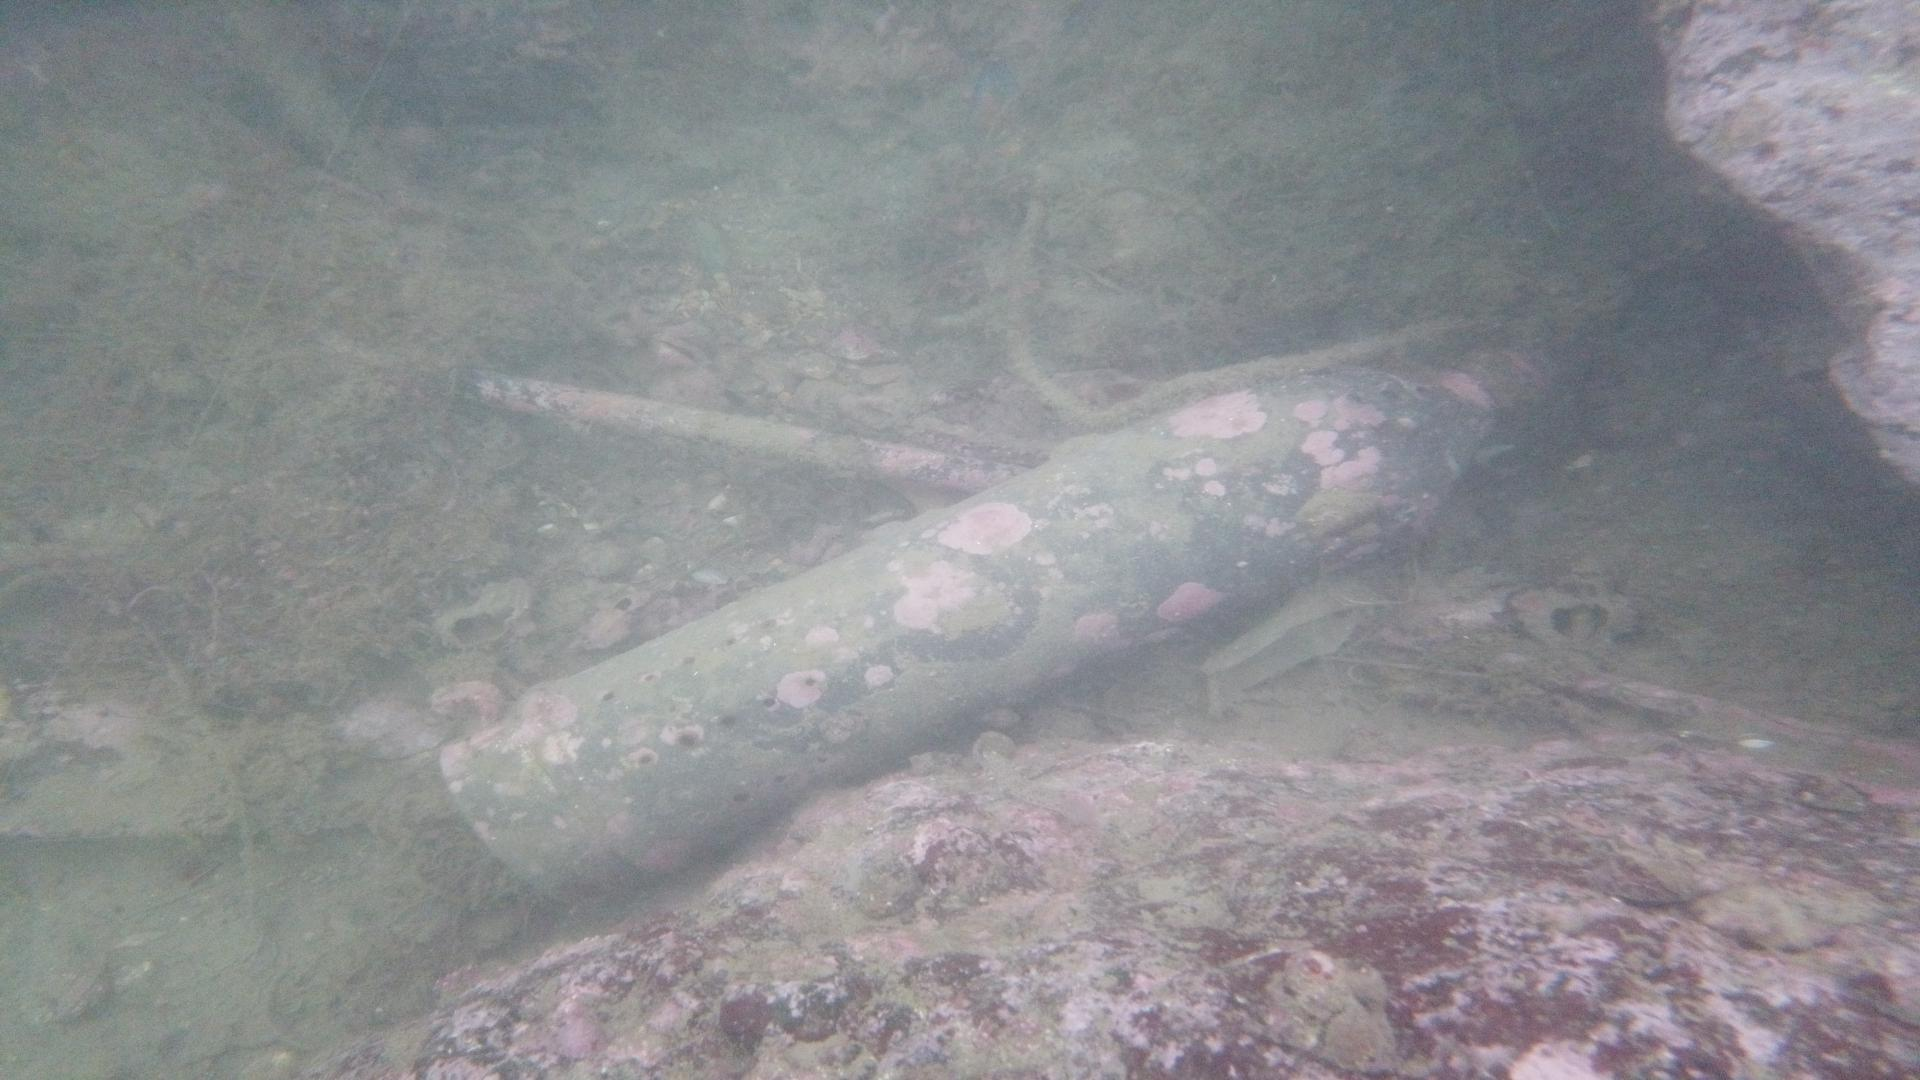eel fish trap: (434, 338, 1551, 916)
